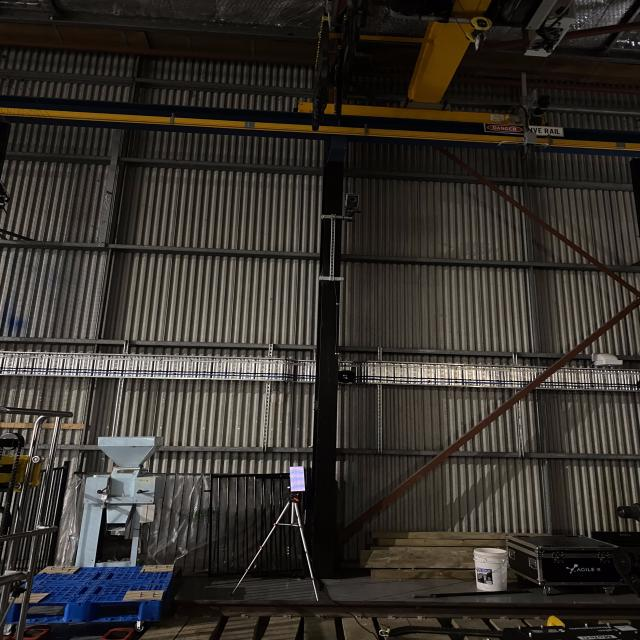matrix: (288, 465, 309, 493)
